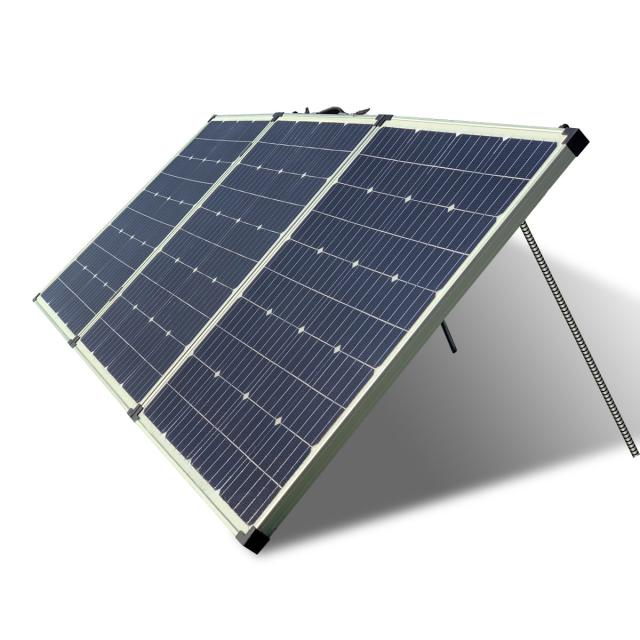clean-solar-panel: (35, 111, 588, 552)
